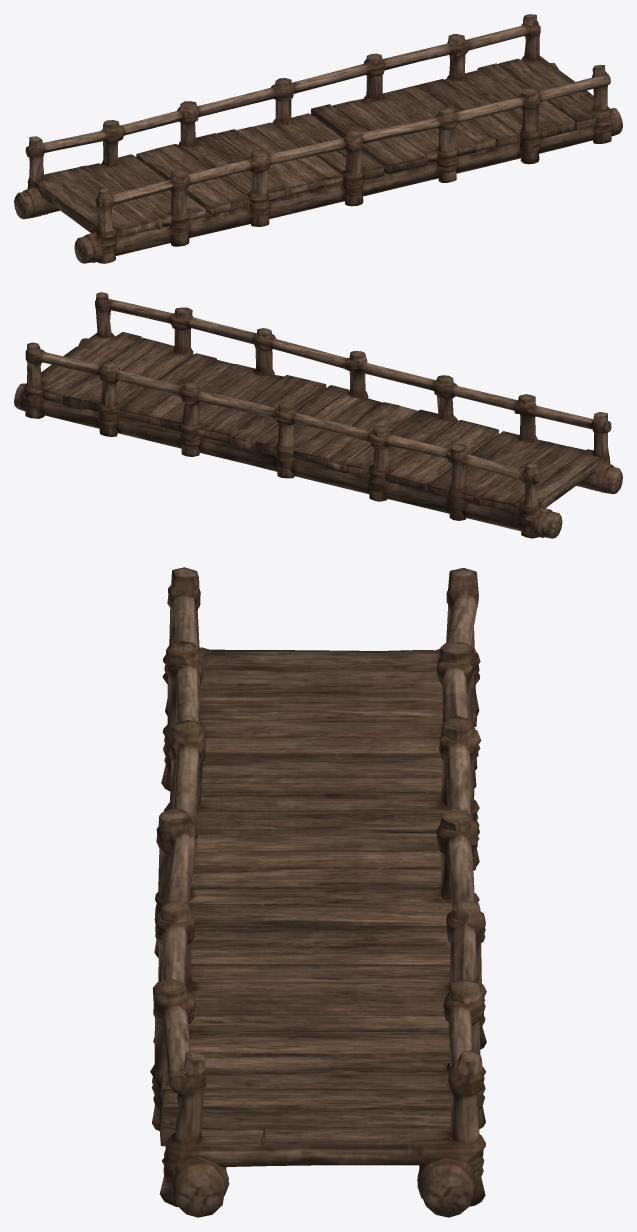
3 renders of one model, top to bottom at view 1: azimuth 30°, elevation 25°; view 2: azimuth 150°, elevation 25°; view 3: azimuth 270°, elevation 25°, orthographic. The views are drawn at different scales.
Visible parts, largest first — view 1: wood-footbridge; view 2: wood-footbridge; view 3: wood-footbridge.
Boxes of the visible parts, <box> form: wood-footbridge: <box>14,14,622,263</box>; wood-footbridge: <box>14,292,622,538</box>; wood-footbridge: <box>150,567,486,1217</box>.
Bounding box in the file's own units: 11.55 × 1.52 × 3.14.
1 material, 1 textured.
